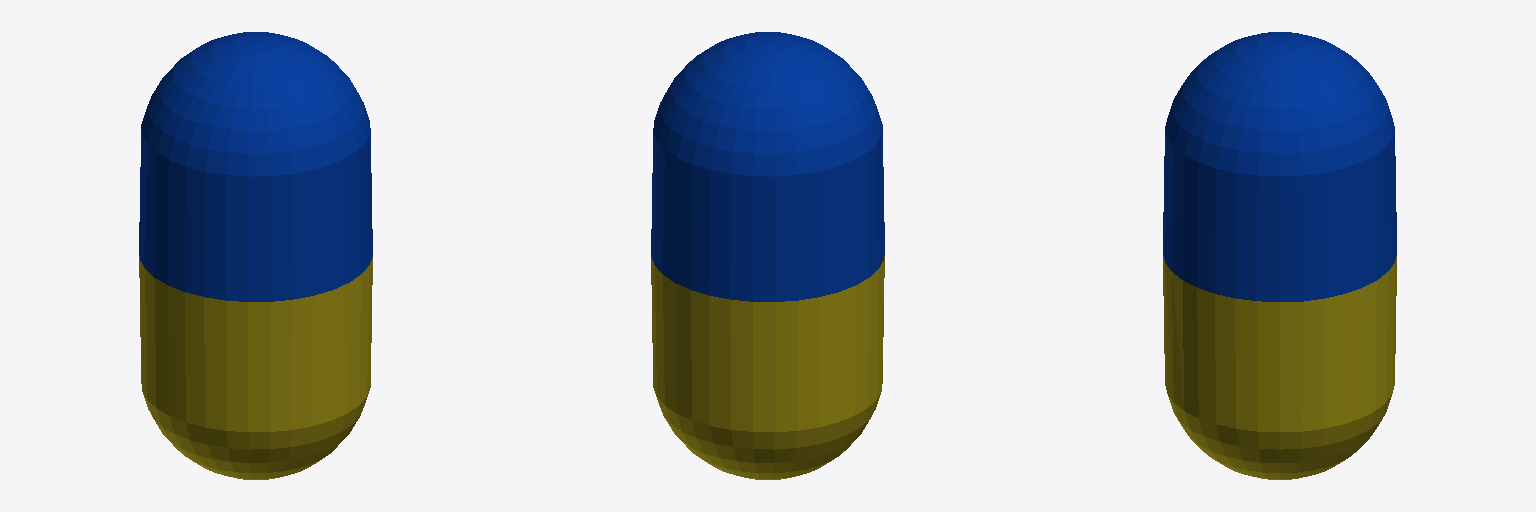
The model's file is gellule.obj.
3 renders of one model, left to right at view 1: azimuth 30°, elevation 25°; view 2: azimuth 150°, elevation 25°; view 3: azimuth 270°, elevation 25°, orthographic.
Visible parts, largest first — view 1: Sphere, Sphere.001; view 2: Sphere, Sphere.001; view 3: Sphere, Sphere.001.
Part boxes in pixels (left/top/right/bottom): Sphere: left=139, top=32, right=372, bottom=301; Sphere.001: left=139, top=256, right=372, bottom=479; Sphere: left=651, top=32, right=884, bottom=301; Sphere.001: left=651, top=256, right=884, bottom=479; Sphere: left=1163, top=32, right=1396, bottom=301; Sphere.001: left=1163, top=256, right=1396, bottom=479.
Size of the model in its own units: 2 by 4.02 by 2.